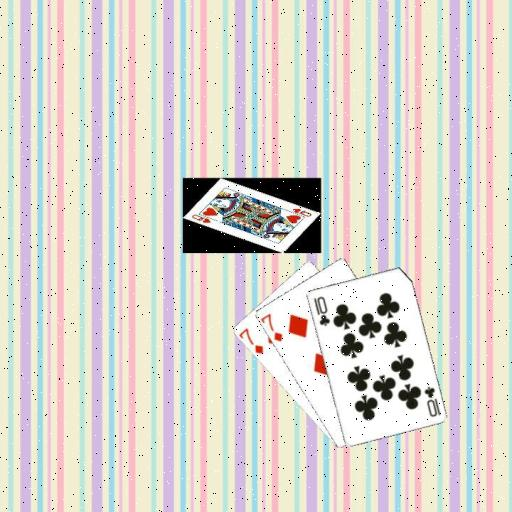10C: (422, 383, 442, 418), (311, 293, 331, 327)
7D: (237, 324, 265, 356), (258, 310, 284, 344)
